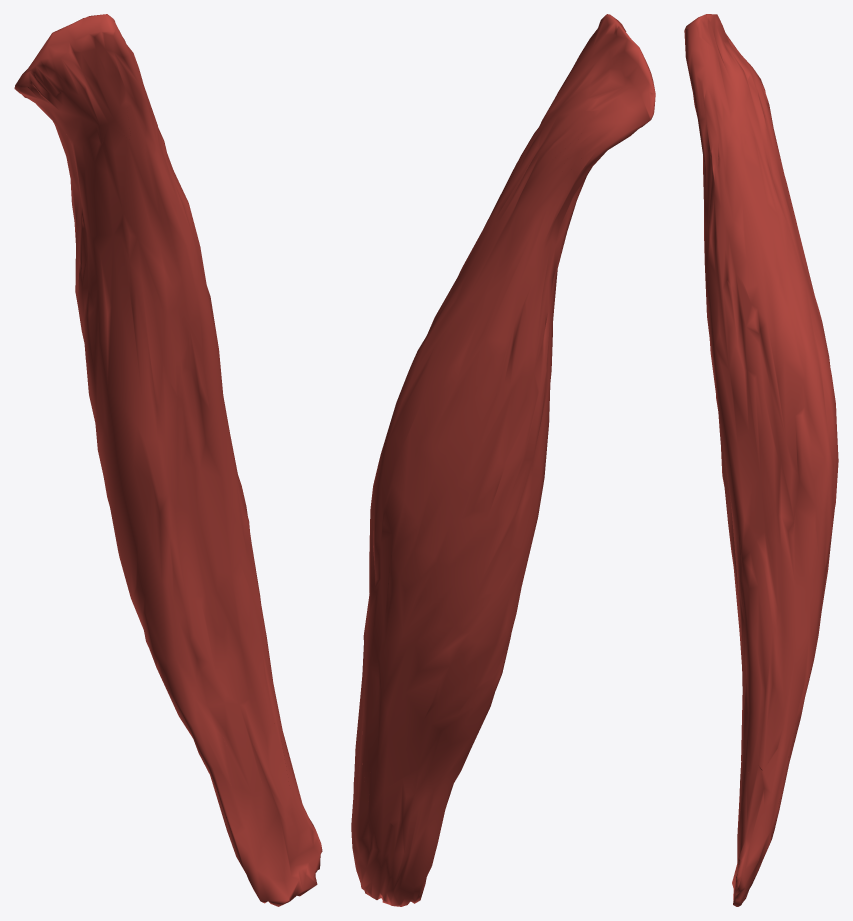
File: musculos-long-head-of-triceps-brachii-l.glb
3 views of the same model, side by side, from view 1: azimuth 30°, elevation 25°; view 2: azimuth 150°, elevation 25°; view 3: azimuth 270°, elevation 25° (orthographic). The views are drawn at different scales.
Parts seen in each view (by area): view 1: Long head of triceps brachii.l; view 2: Long head of triceps brachii.l; view 3: Long head of triceps brachii.l.
Part boxes in pixels (bbox=[...]): Long head of triceps brachii.l: bbox=[14, 14, 322, 906]; Long head of triceps brachii.l: bbox=[351, 14, 655, 906]; Long head of triceps brachii.l: bbox=[684, 14, 838, 906].
Bounding box in the file's own units: 0.0917 × 0.2721 × 0.0474.
